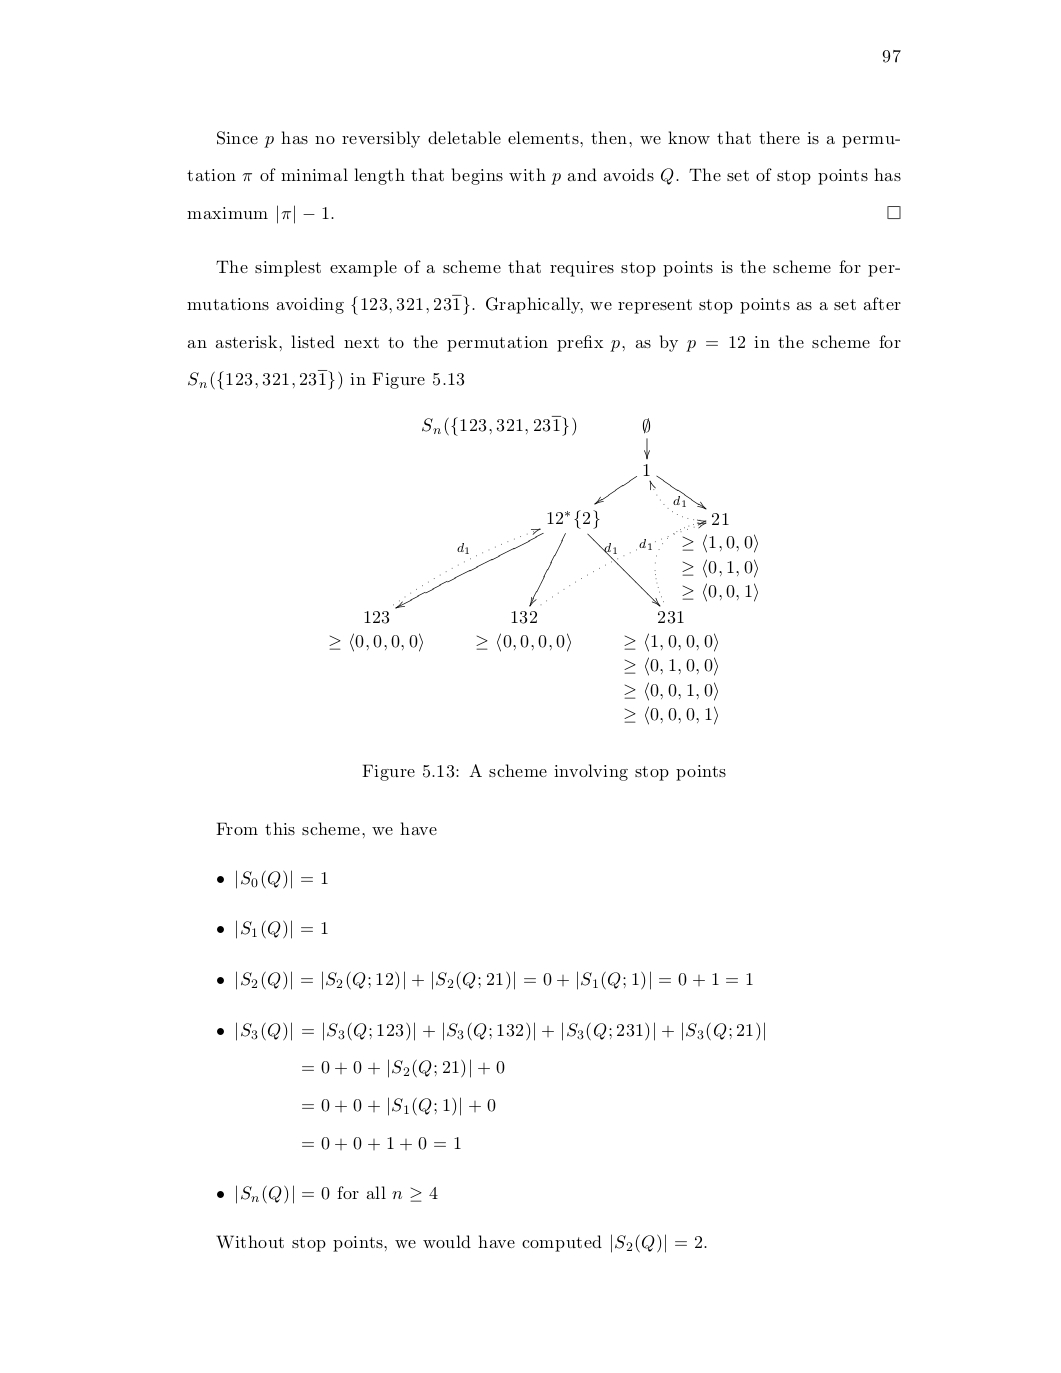figure: (329, 415, 757, 724)
formula: (217, 1021, 765, 1041), (217, 970, 752, 990), (217, 1184, 437, 1204), (302, 1058, 504, 1078), (302, 1096, 495, 1116), (302, 1135, 460, 1151), (217, 869, 327, 889), (217, 919, 327, 939)
